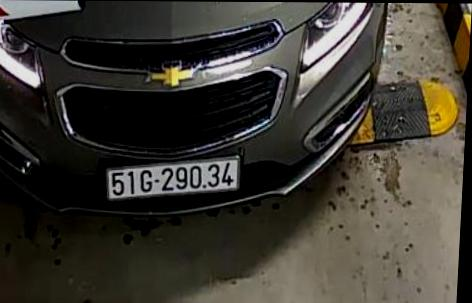License_Plate: (102, 154, 247, 204)
